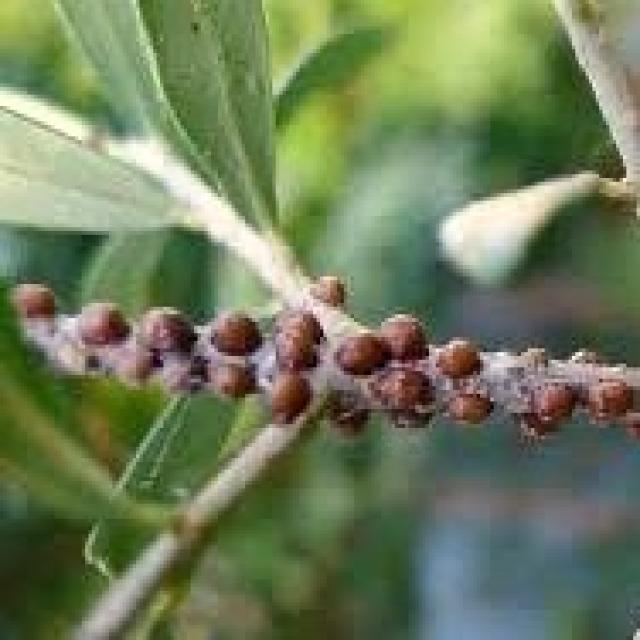BlackScale: (14, 268, 636, 446)
